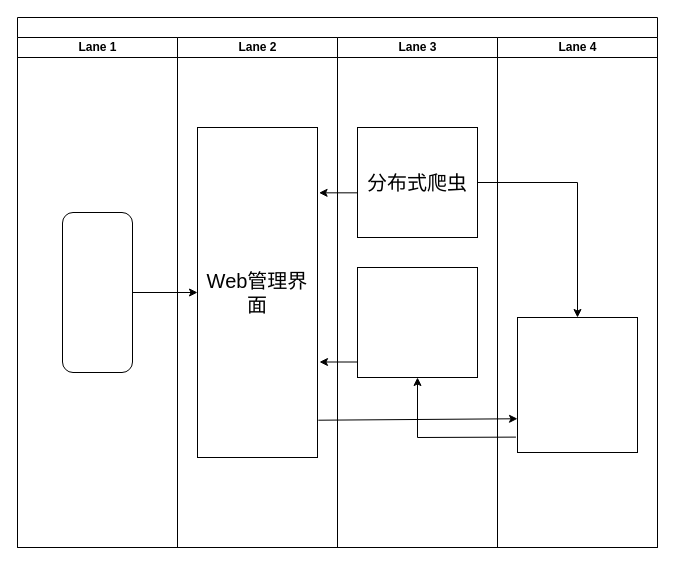
Image size: 675x565. Some labels were removed from this diagram. The shapes that lost their labels are listed below. From the top down, each one's centre as x and y in pixels, then its label:
point (97, 292): 用户
point (417, 322): 意见领袖识别
point (577, 384): 数据库
